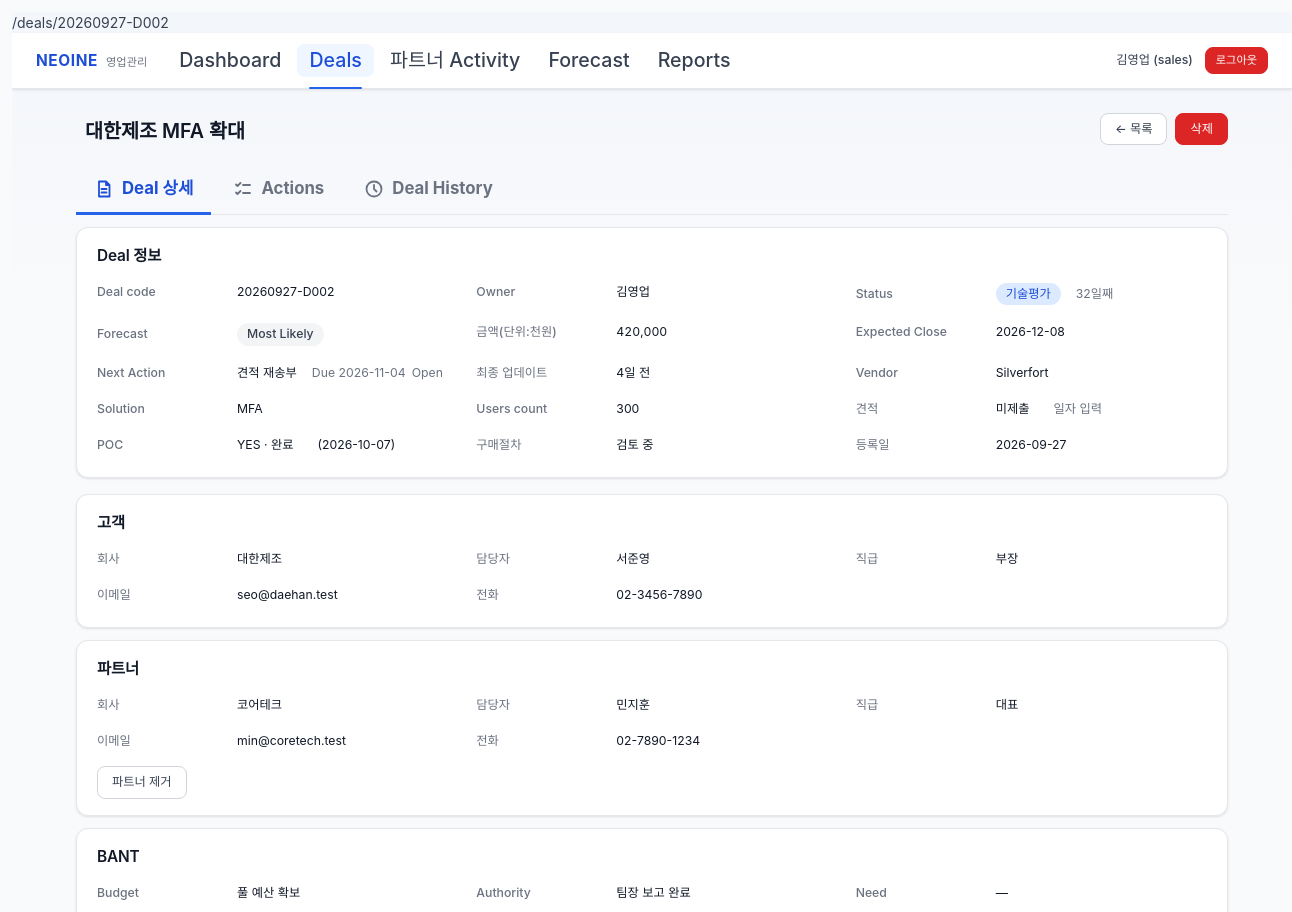
금액·Expected Close 인라인 편집 › rejects an empty amount with the server message and keeps the editor open
Expected: the heading "대한제조 MFA 확대" is shown, [76, 113, 254, 150]
Click the button named "금액(단위:천원) 수정" at x=642, y=332, box [607, 317, 676, 348]
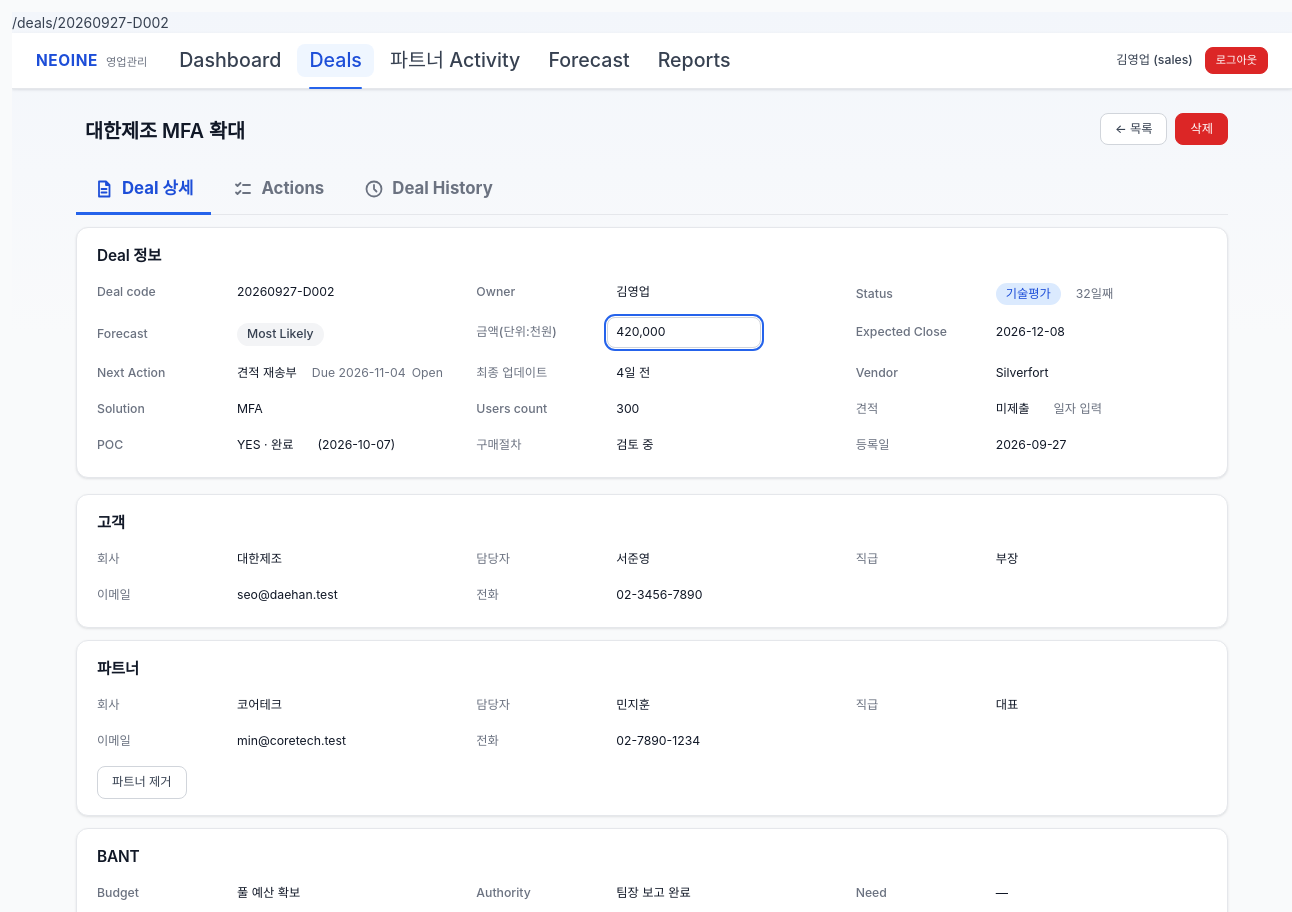
Clear the field named "금액(단위:천원)" at x=684, y=332, box [607, 317, 761, 348]
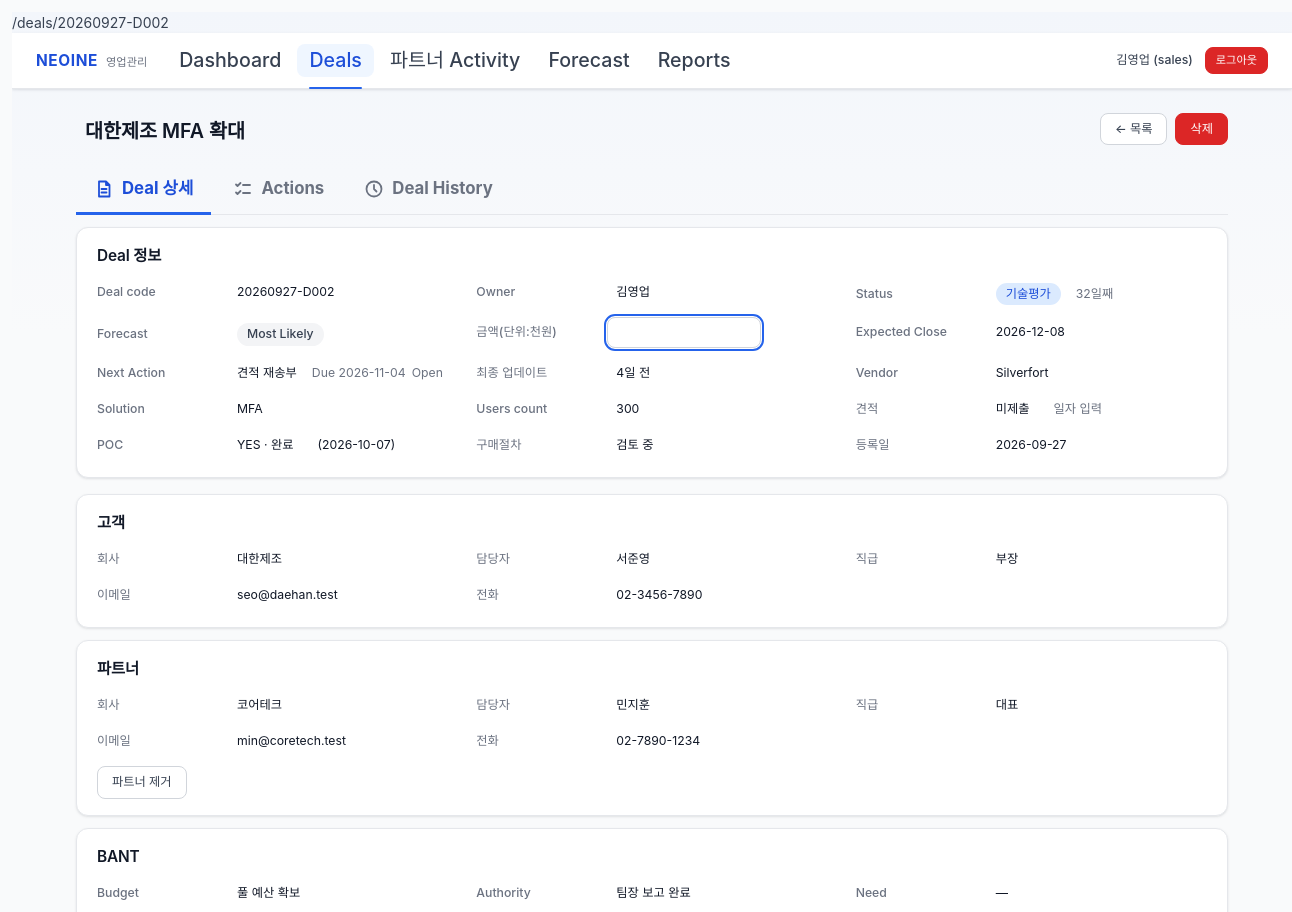
Press Enter
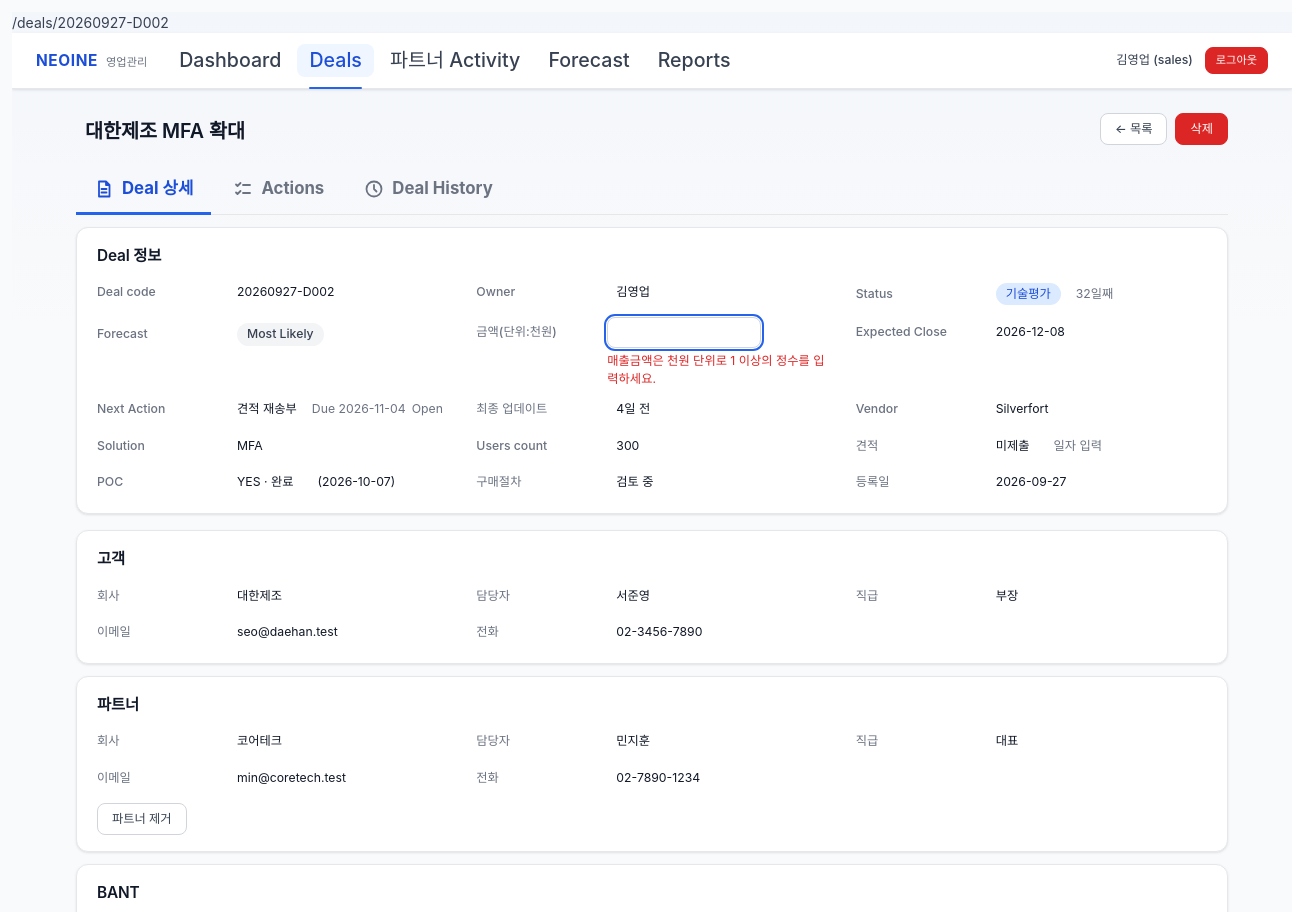
Now the message reads "매출금액은 천원 단위로 1 이상의 정수를 입력하세요.", box [607, 352, 825, 386]
